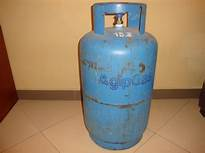blue_gas: (78, 2, 158, 149)
